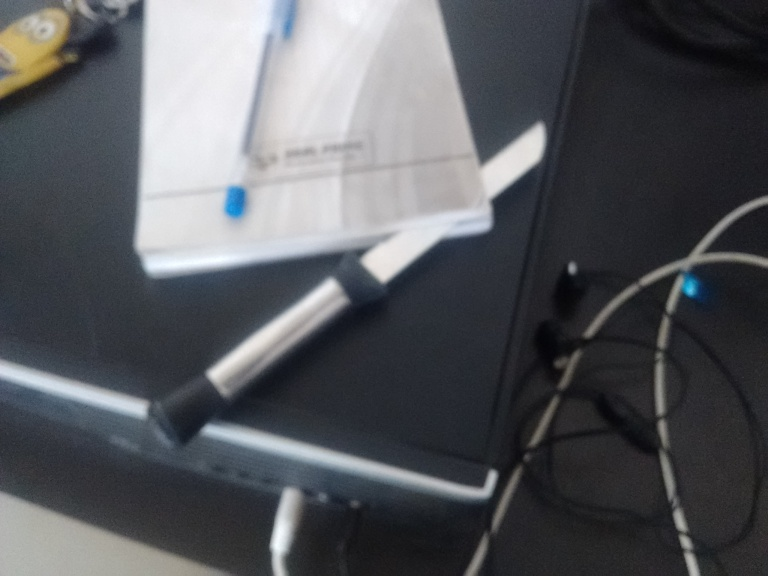knife: (151, 119, 551, 444)
